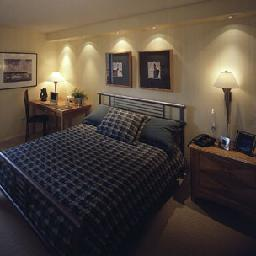Cama: (1, 115, 180, 240)
